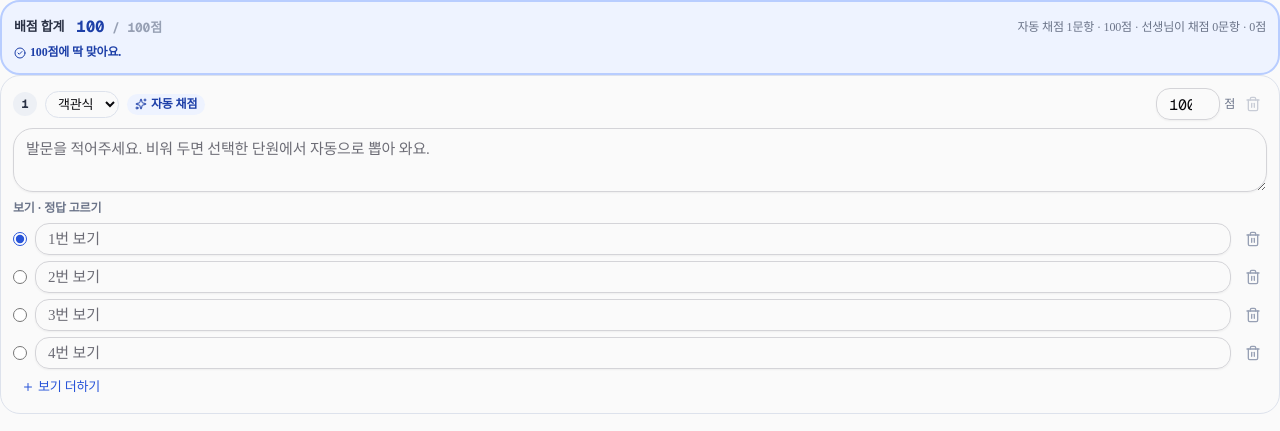
Scenario: QuestionListEditor › 객관식 보기를 지우면 정답 표시가 따라 이동한다
Click the radio button with test id "question-option-correct-0-1": (20, 277) x1=13 y1=270 x2=27 y2=284
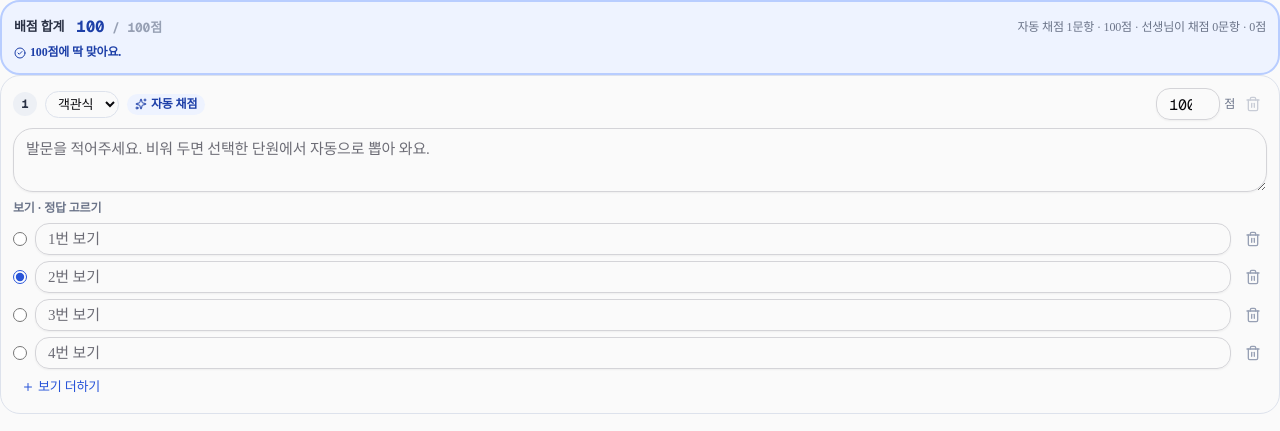
Click the button named "1번 문항 1번 보기 지우기": (1253, 239) x1=1239 y1=225 x2=1267 y2=253
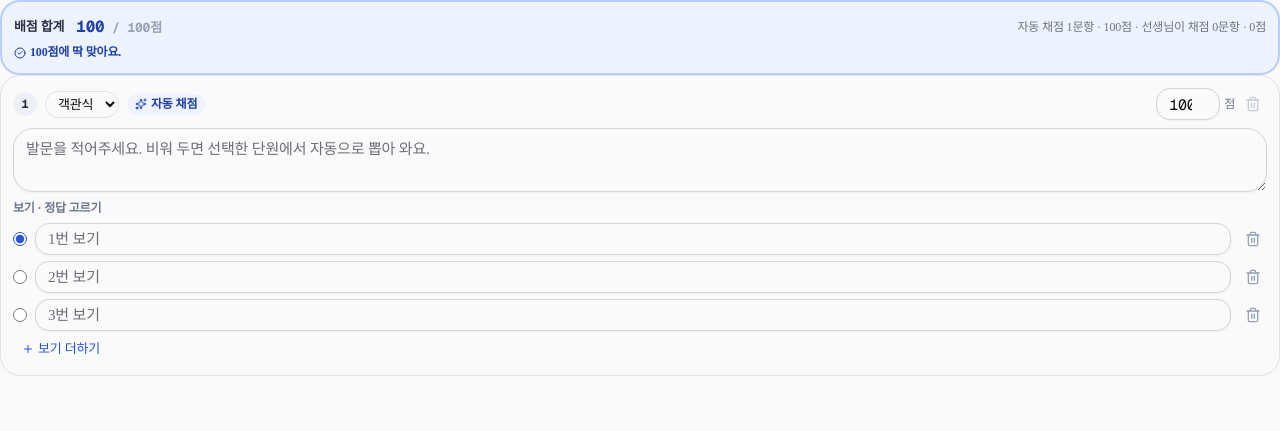
Now the radio button with test id "question-option-correct-0-0" is checked, box x1=13 y1=232 x2=27 y2=246
